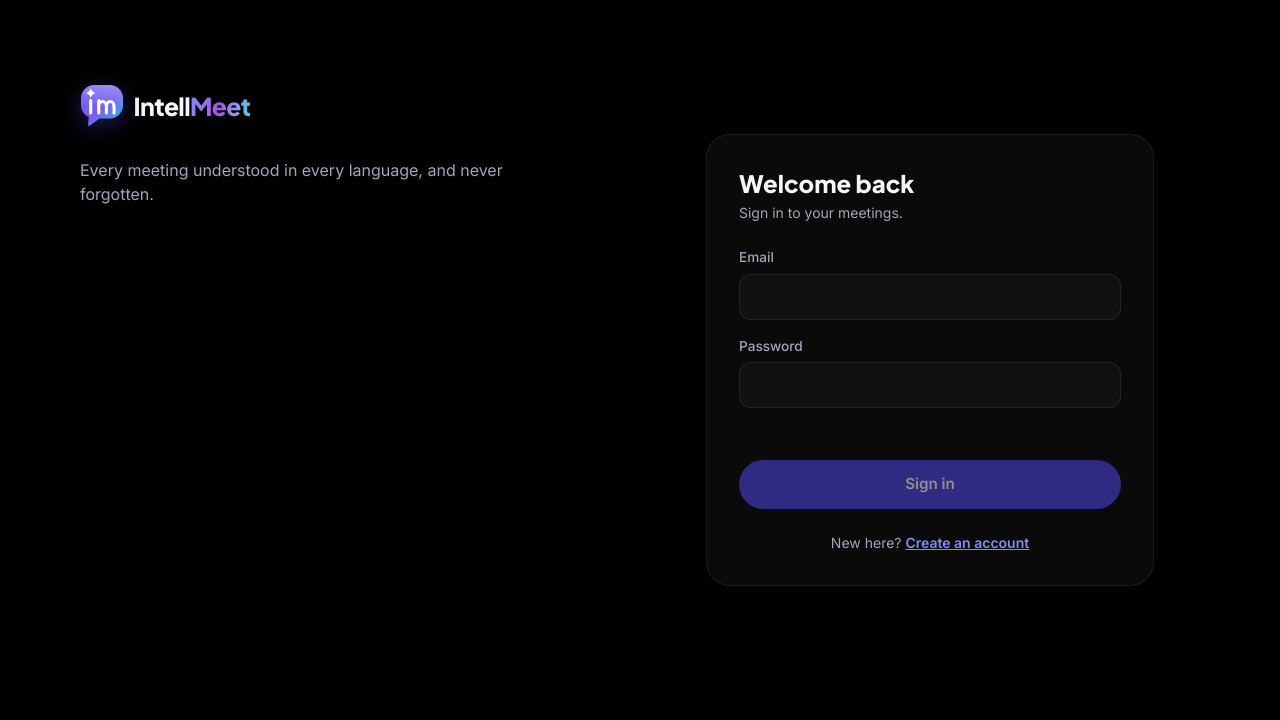
Scenario: Login form › shows the server error in an alert region
The image size is (1280, 720).
Type "a@b.dev" into the field labelled "Email".
click(930, 297); type("a@b.dev")  # box 739,274 -> 1121,320
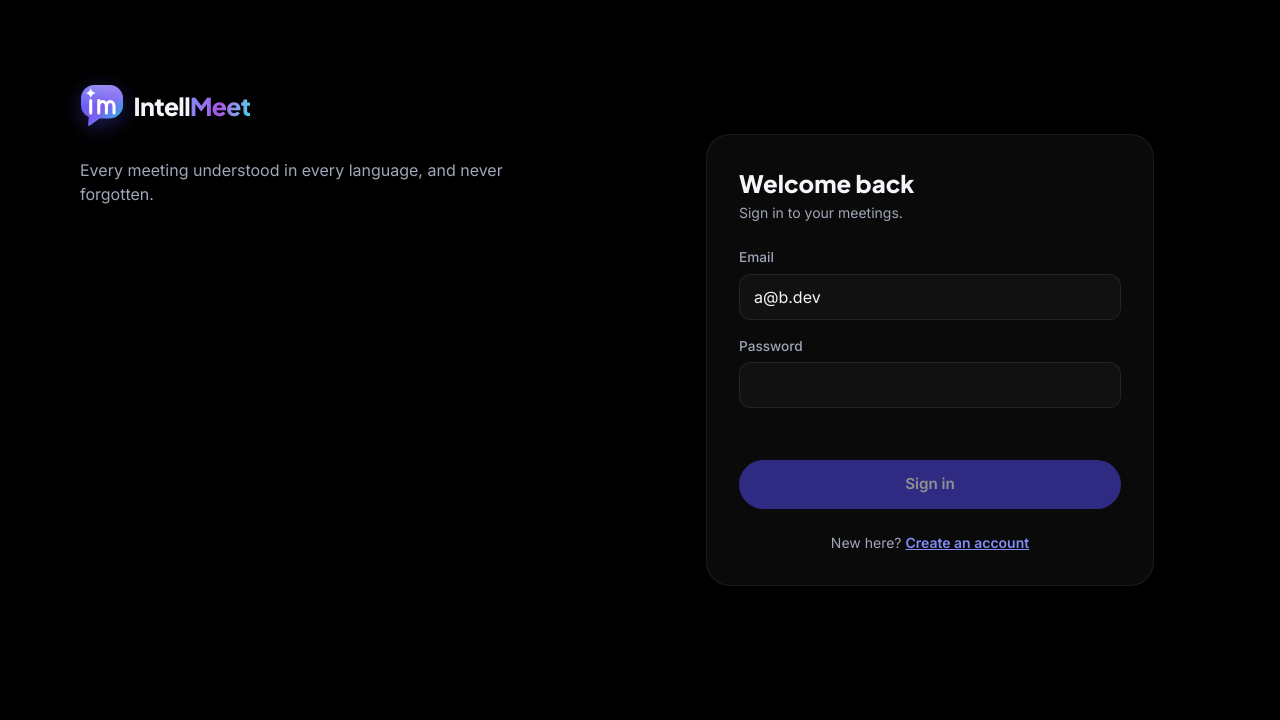
Type "x" into the password field labelled "Password".
click(930, 385); type("x")  # box 739,362 -> 1121,408
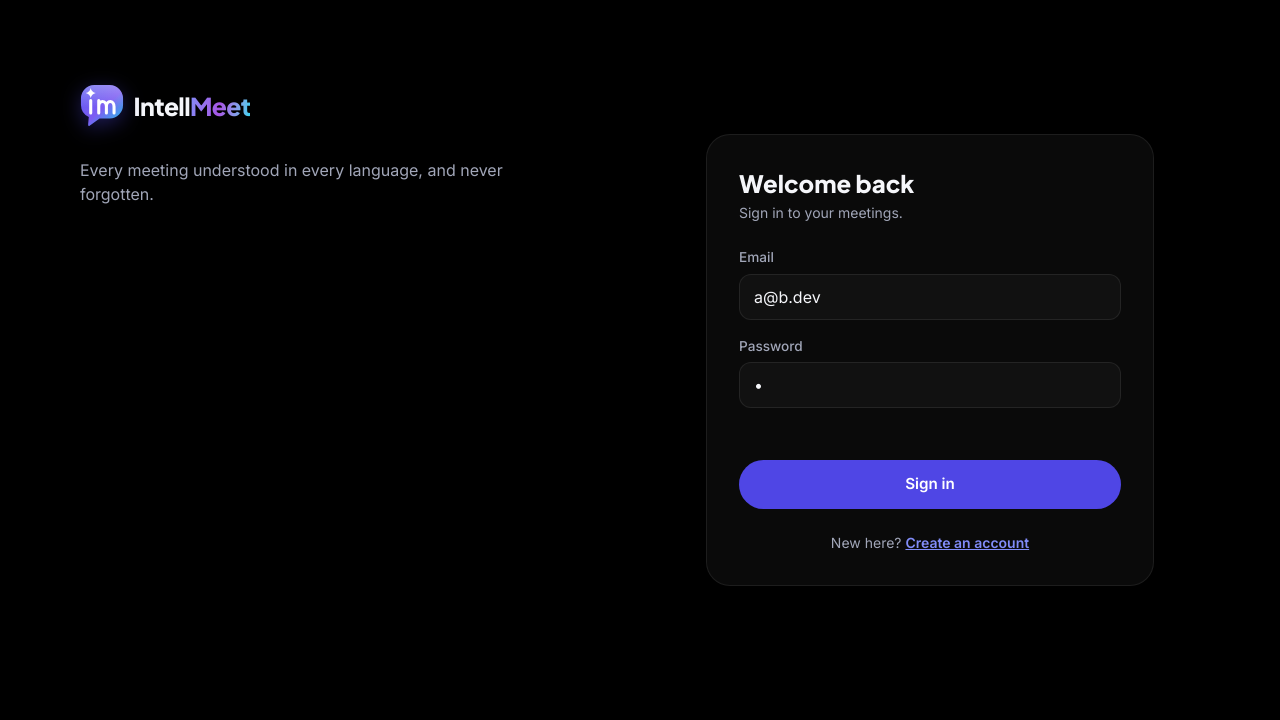
Click the button "Sign in".
click(930, 484)  # box 739,460 -> 1121,509
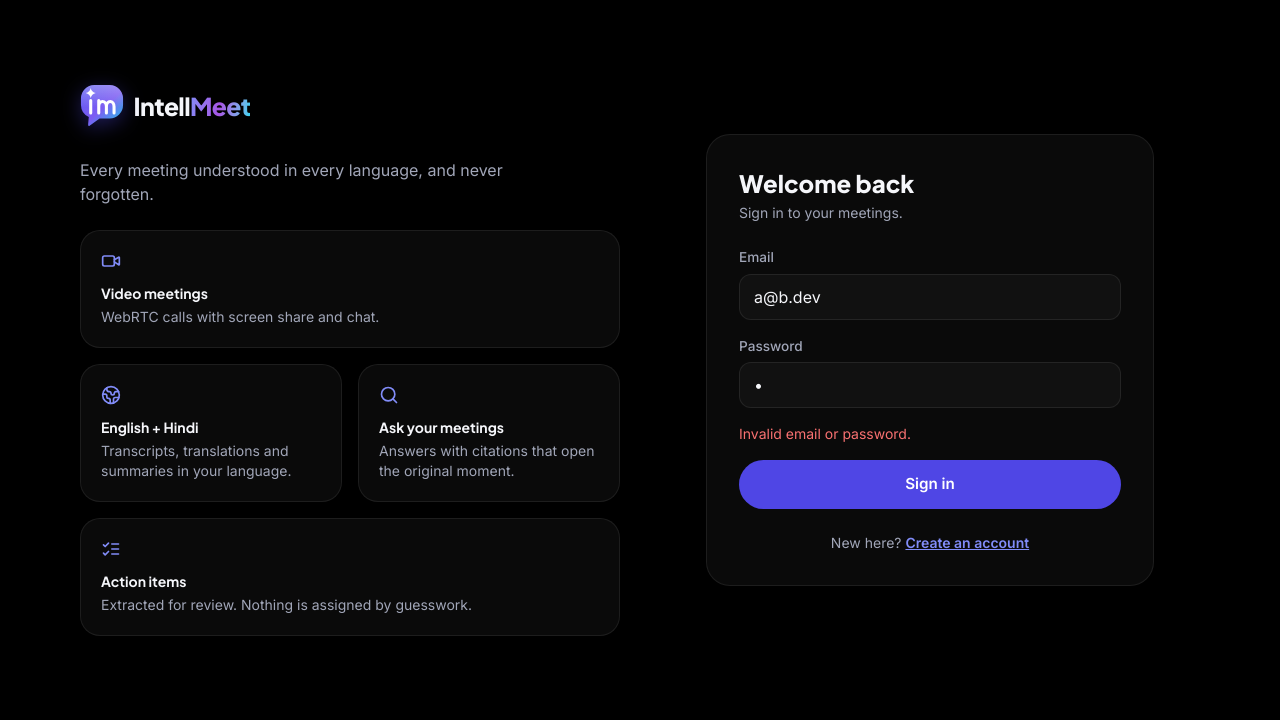
Now the message shows "Invalid email or password", box 739,425 -> 911,442
